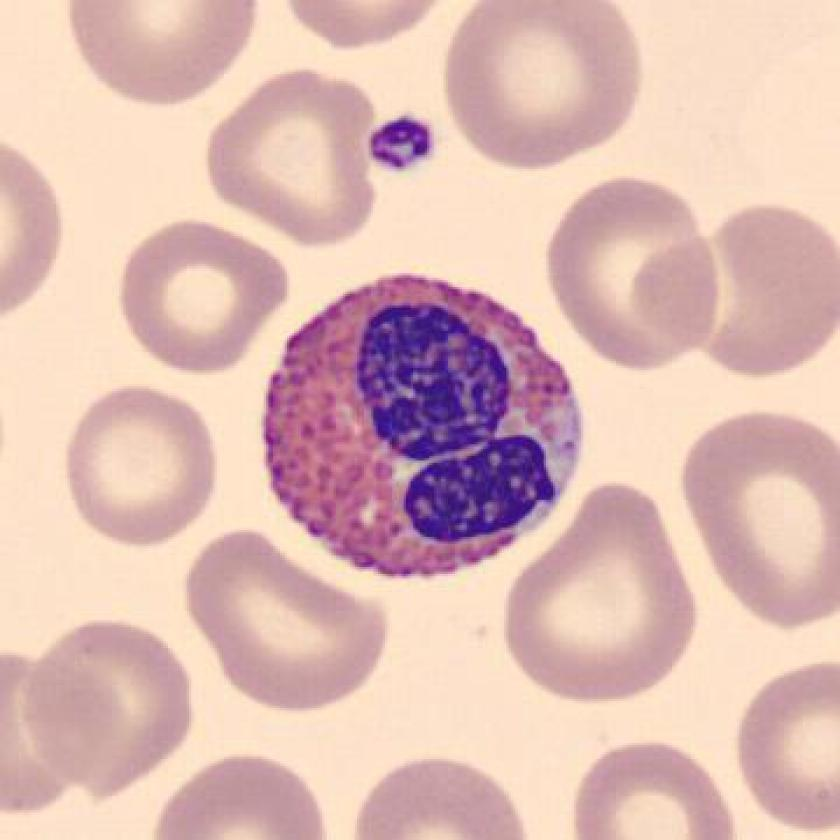eosinophil: (253, 260, 591, 589)
